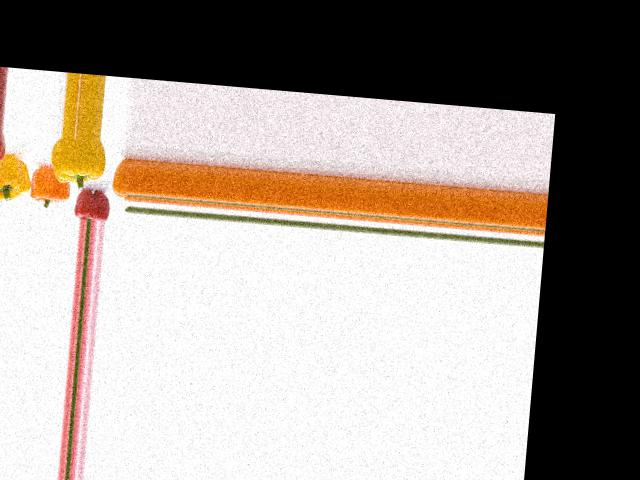bell_pepper: (108, 156, 133, 202)
